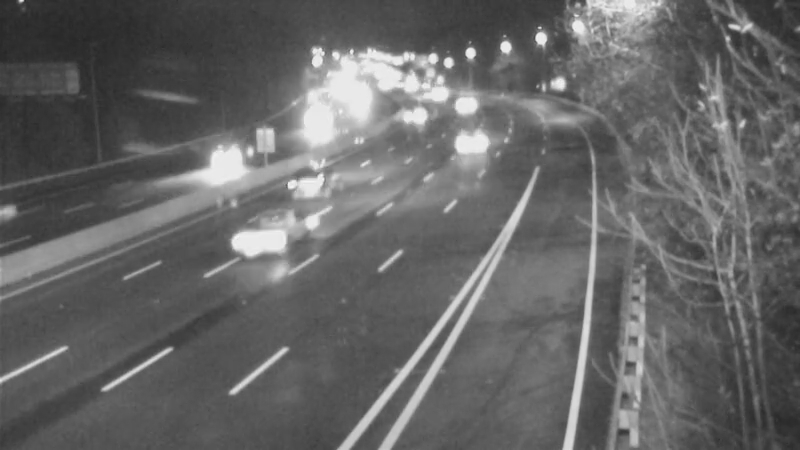vehicle: (268, 142, 348, 222), (231, 206, 311, 286), (189, 126, 269, 206), (1, 168, 67, 248), (384, 62, 434, 112), (412, 65, 462, 115), (401, 72, 451, 122), (445, 82, 495, 132), (377, 94, 427, 144), (438, 121, 488, 171), (291, 92, 341, 142)
